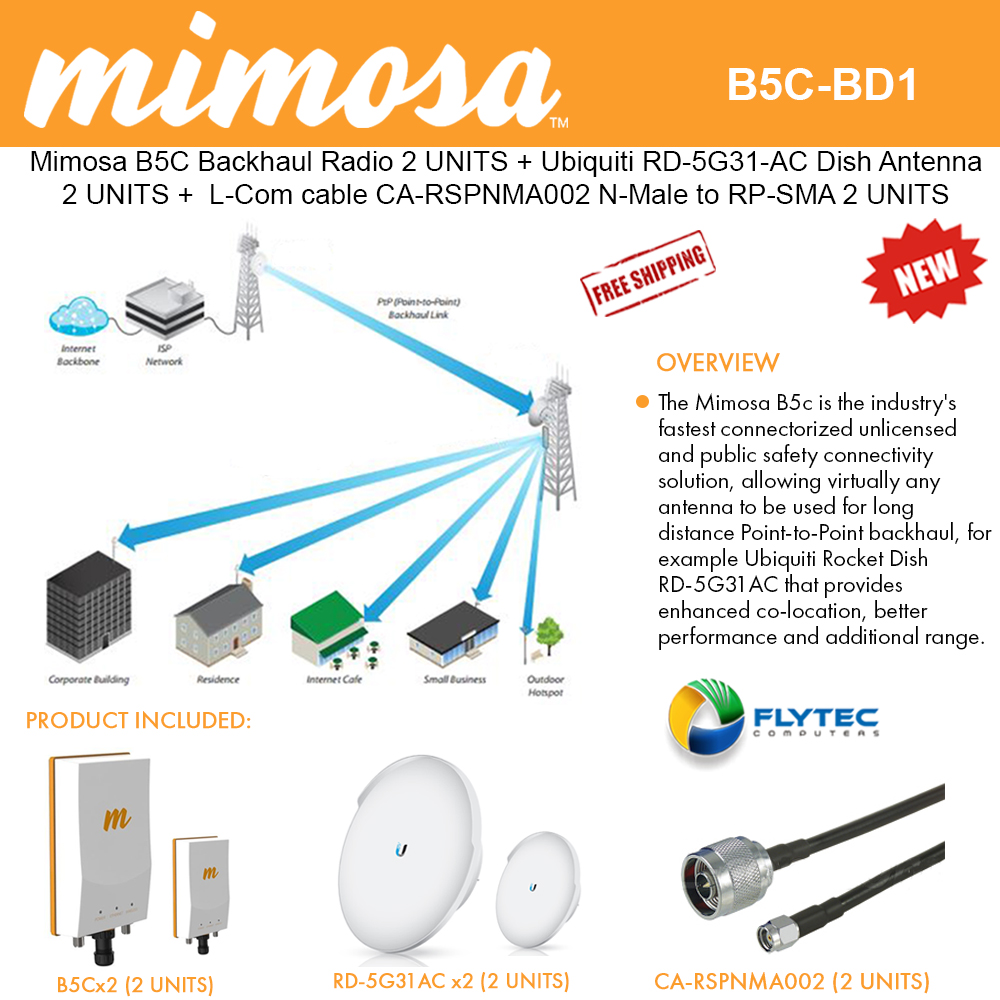ba: (330, 734, 488, 955)
